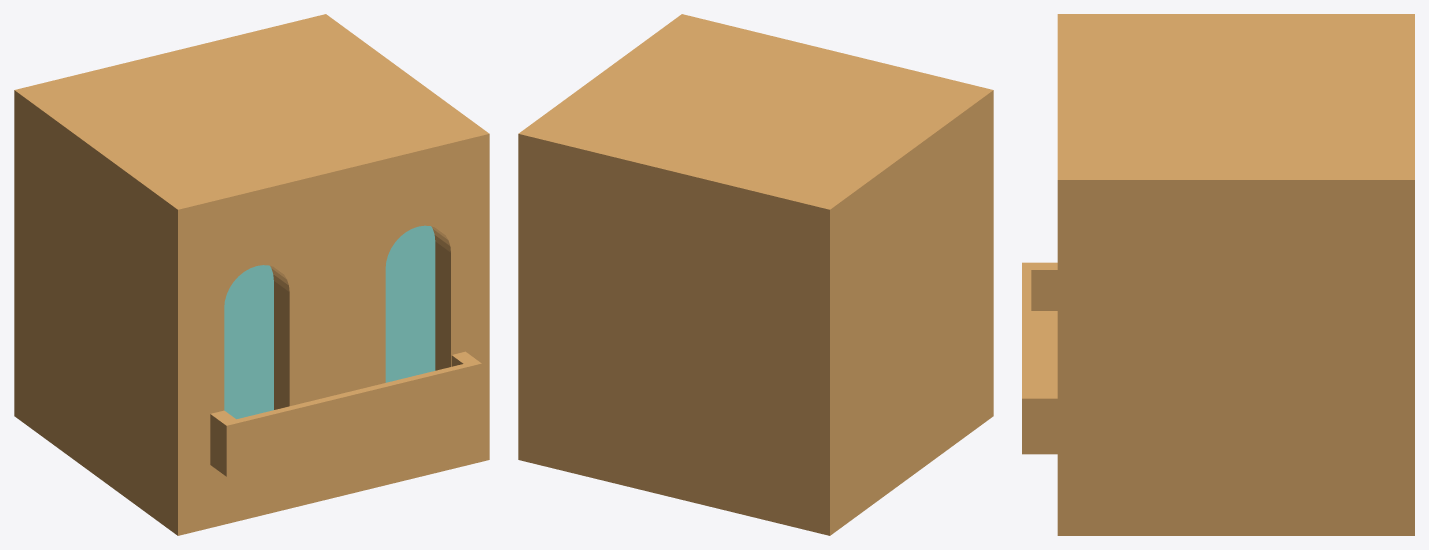
File: Building Mid2.fbx
3 renders of one model, left to right at view 1: azimuth 30°, elevation 25°; view 2: azimuth 150°, elevation 25°; view 3: azimuth 270°, elevation 25°, orthographic. The views are drawn at different scales.
Parts seen in each view (by area): view 1: middle 3; view 2: middle 3; view 3: middle 3.
Boxes of the visible parts, x1,y1,x2,y2 form: middle 3: [14, 14, 489, 535]; middle 3: [518, 14, 993, 535]; middle 3: [1022, 14, 1414, 535].
Bounding box in the file's own units: 300 × 300 × 300.
